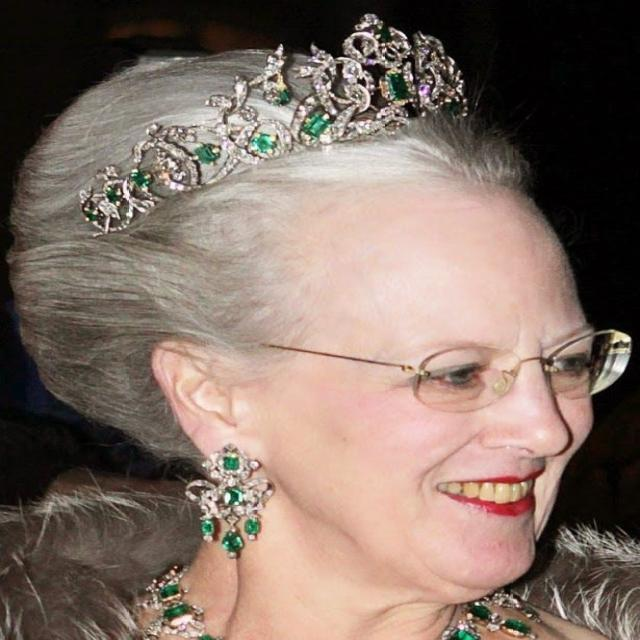Earring: (176, 427, 286, 568)
